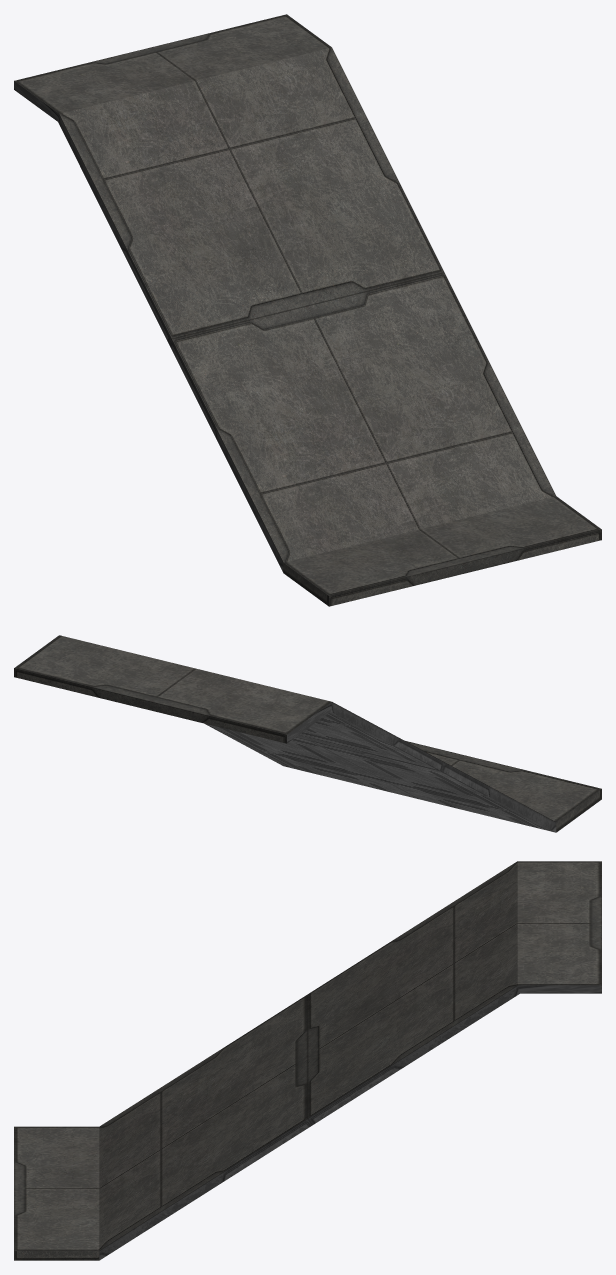
The model's file is Slope.fbx.
The picture shows the model from 3 angles, top to bottom: view 1: azimuth 30°, elevation 25°; view 2: azimuth 150°, elevation 25°; view 3: azimuth 270°, elevation 25°; orthographic projection. The views are drawn at different scales.
Visible parts, largest first — view 1: Slope; view 2: Slope; view 3: Slope.
Boxes of the visible parts, box(x1,y1,x2,y2) form: Slope: box(14, 14, 601, 606); Slope: box(14, 635, 601, 832); Slope: box(14, 861, 601, 1260).
Size of the model in its own units: 600 by 620 by 1200.
1 material, 1 textured.
